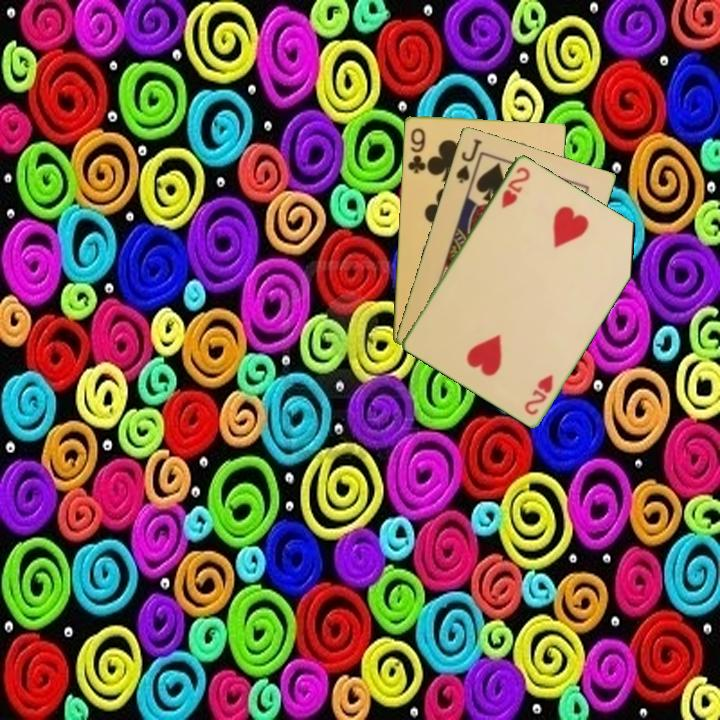2h: (498, 163, 533, 211), (521, 371, 556, 418)
9c: (404, 124, 428, 176)
Js: (452, 135, 485, 186)
